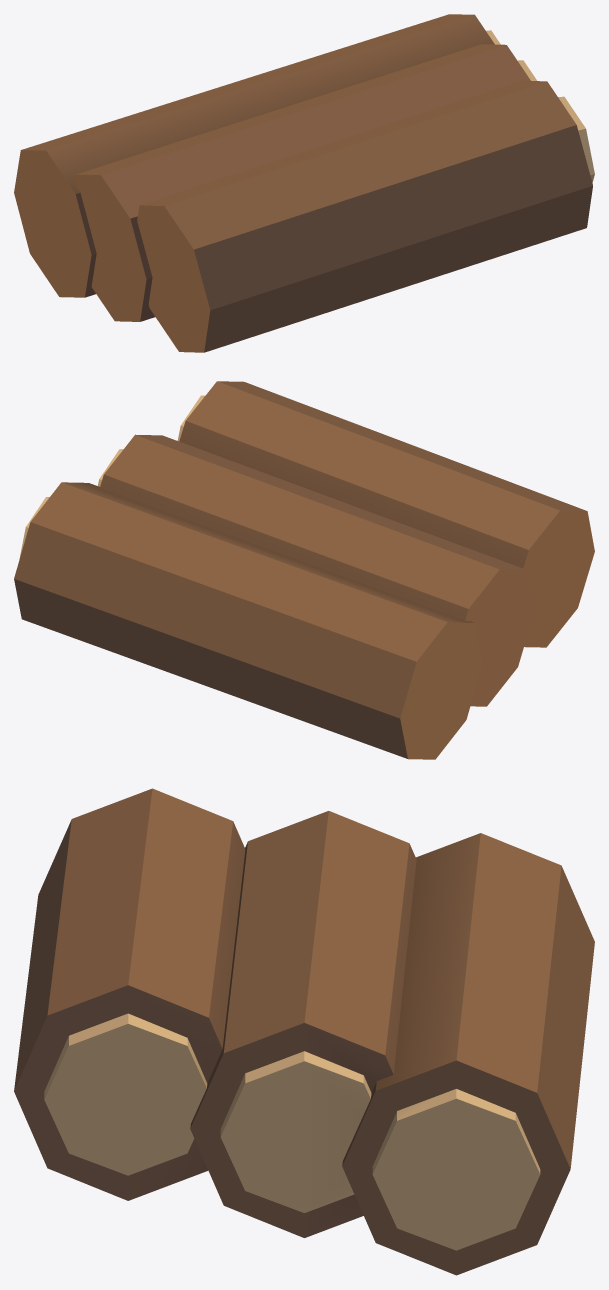
The model's file is find_ironwood.glb.
3 renders of one model, top to bottom at view 1: azimuth 30°, elevation 25°; view 2: azimuth 150°, elevation 25°; view 3: azimuth 270°, elevation 25°, orthographic. The views are drawn at different scales.
Visible parts, largest first — view 1: find_ironwood; view 2: find_ironwood; view 3: find_ironwood.
Part boxes in pixels (bbox=[...]): find_ironwood: bbox=[14, 14, 594, 352]; find_ironwood: bbox=[14, 381, 594, 759]; find_ironwood: bbox=[14, 788, 594, 1275].
Bounding box in the file's own units: 0.5725 × 0.2771 × 0.4779.
